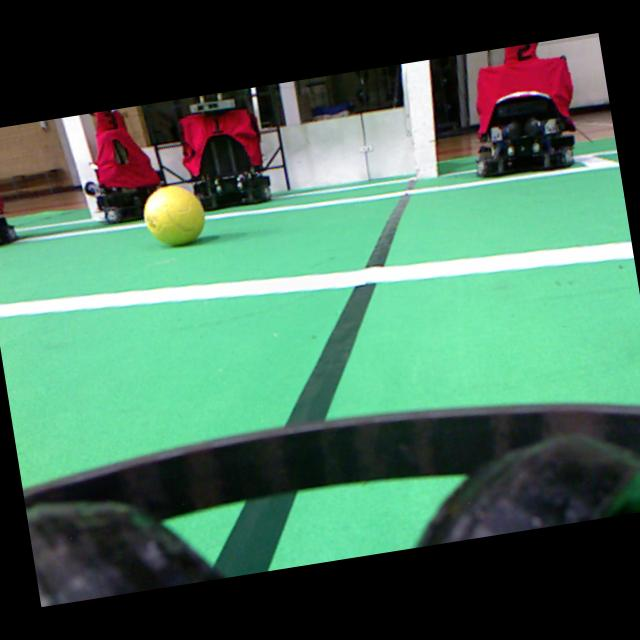ball: (143, 186, 204, 245)
goal: (62, 115, 104, 220), (401, 60, 438, 178)
